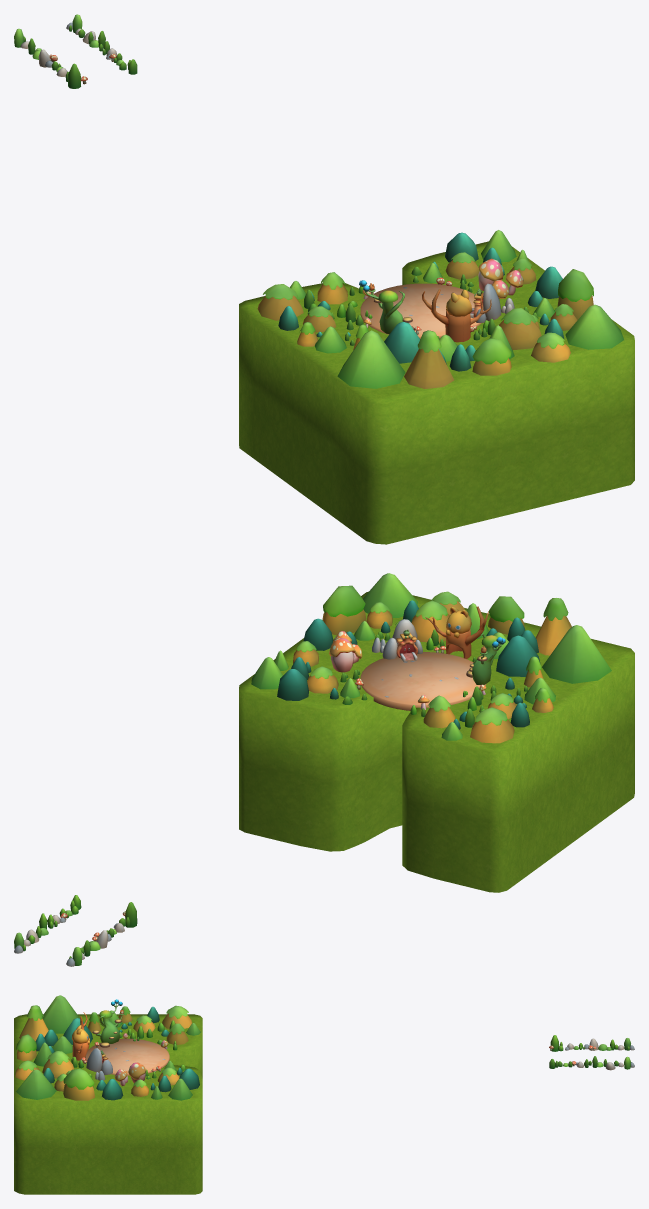
File: Nature.FBX
3 views of the same model, one above another, from view 1: azimuth 30°, elevation 25°; view 2: azimuth 150°, elevation 25°; view 3: azimuth 270°, elevation 25° (orthographic). The views are drawn at different scales.
Visible parts, largest first — view 1: Nature_Landscape, Nature_Fence_R, Nature_Fence_L; view 2: Nature_Landscape, Nature_Fence_R, Nature_Fence_L; view 3: Nature_Landscape, Nature_Fence_R, Nature_Fence_L.
Part boxes in pixels (x1,y1,x2,y2): Nature_Landscape: (239,230,634,544); Nature_Fence_R: (14,28,87,88); Nature_Fence_L: (66,14,137,74); Nature_Landscape: (239,573,634,892); Nature_Fence_R: (66,902,137,966); Nature_Fence_L: (14,895,81,953); Nature_Landscape: (14,995,202,1194); Nature_Fence_R: (549,1035,634,1051); Nature_Fence_L: (549,1056,634,1070).
Size of the model in its own units: 44.02 by 30.57 by 133.
Materials: 1 (1 with a texture image).
